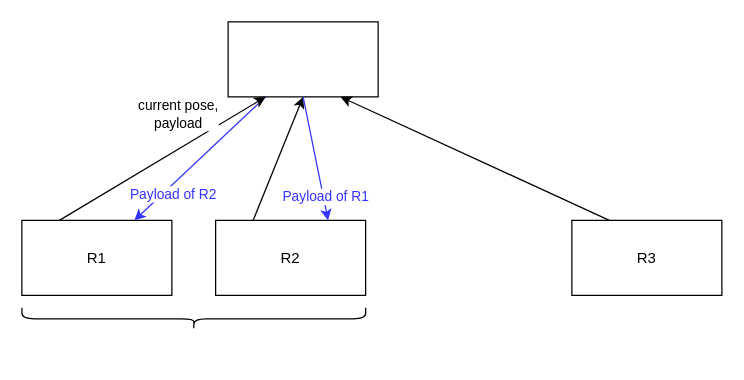
Image size: 744x380. Some labels were removed from this diagram. The box of each missing label's shape, as (x1, y1, x2, y2) in pixels:
odom_distribution: (227, 21, 378, 97)
Robot 1 and 2 in communication distance: (21, 307, 366, 330)
